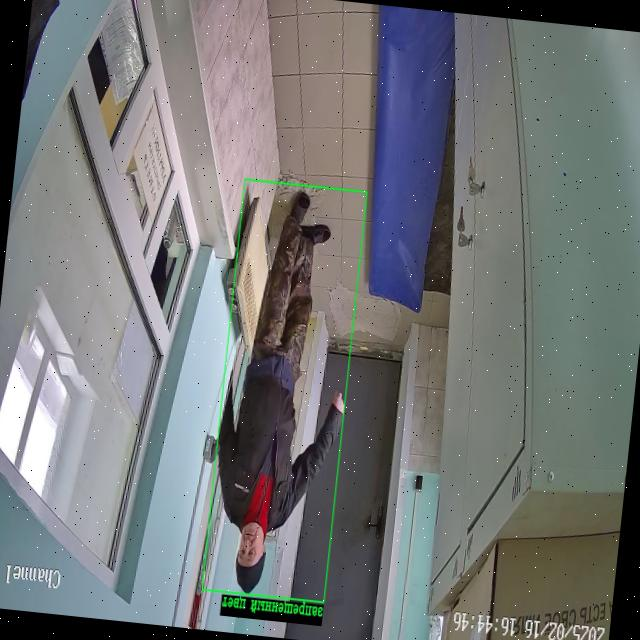Person: (218, 194, 344, 592)
